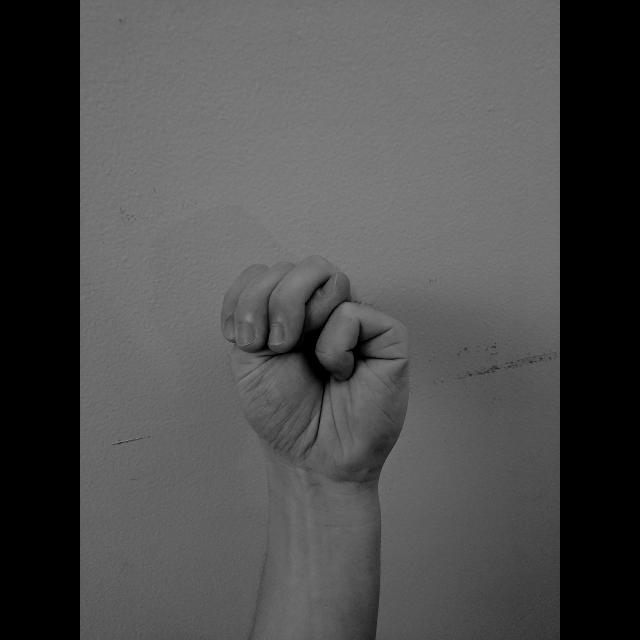M: (212, 249, 420, 495)
